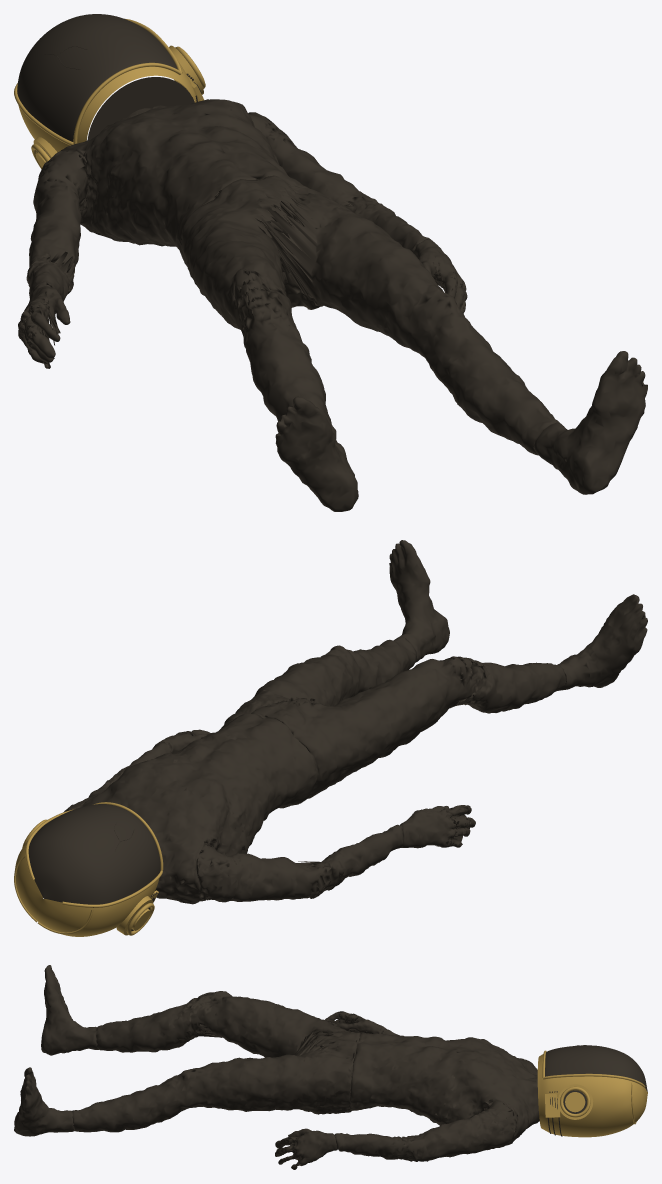
The model's file is fallen-_IbJAX7K.glb.
The picture shows the model from 3 angles, top to bottom: view 1: azimuth 30°, elevation 25°; view 2: azimuth 150°, elevation 25°; view 3: azimuth 270°, elevation 25°; orthographic projection. The views are drawn at different scales.
Visible parts, largest first — view 1: Charcoal remains, Dead visor, Weathered gold, Soot seams; view 2: Charcoal remains, Dead visor, Weathered gold; view 3: Charcoal remains, Weathered gold, Dead visor, Soot seams.
Boxes of the visible parts, <box> form: Charcoal remains: <box>18,99,647,511</box>; Dead visor: <box>17,14,177,141</box>; Weathered gold: <box>14,18,205,168</box>; Soot seams: <box>36,46,201,158</box>; Charcoal remains: <box>63,540,647,904</box>; Dead visor: <box>28,804,160,904</box>; Weathered gold: <box>14,802,163,936</box>; Charcoal remains: <box>14,965,539,1169</box>; Weathered gold: <box>537,1050,647,1137</box>; Dead visor: <box>545,1045,647,1092</box>; Soot seams: <box>528,1045,586,1136</box>.
Bounding box in the file's own units: 0.8233 × 0.3199 × 1.82.
